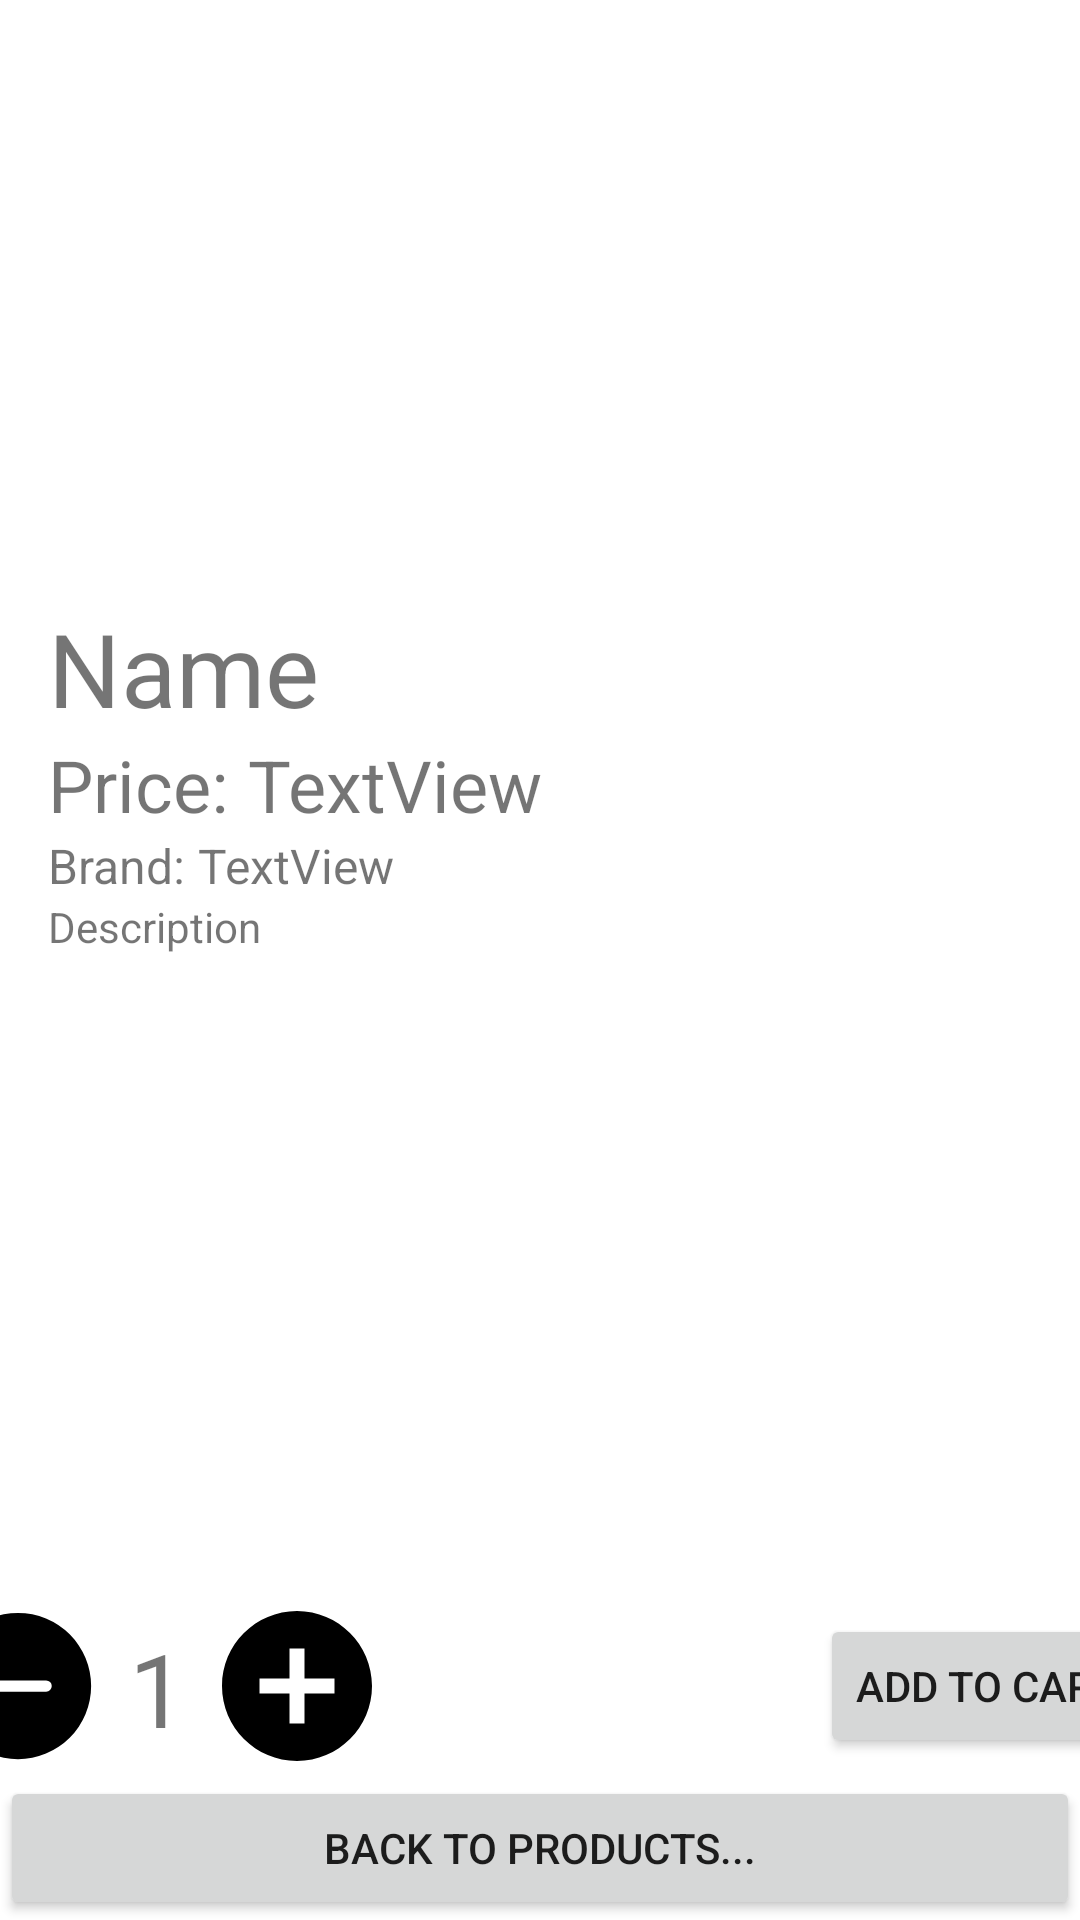

Screen size 1080*1920. Icon name, then its center in pixels as (x=x, y=y):
plus circle: (x=297, y=1686)
